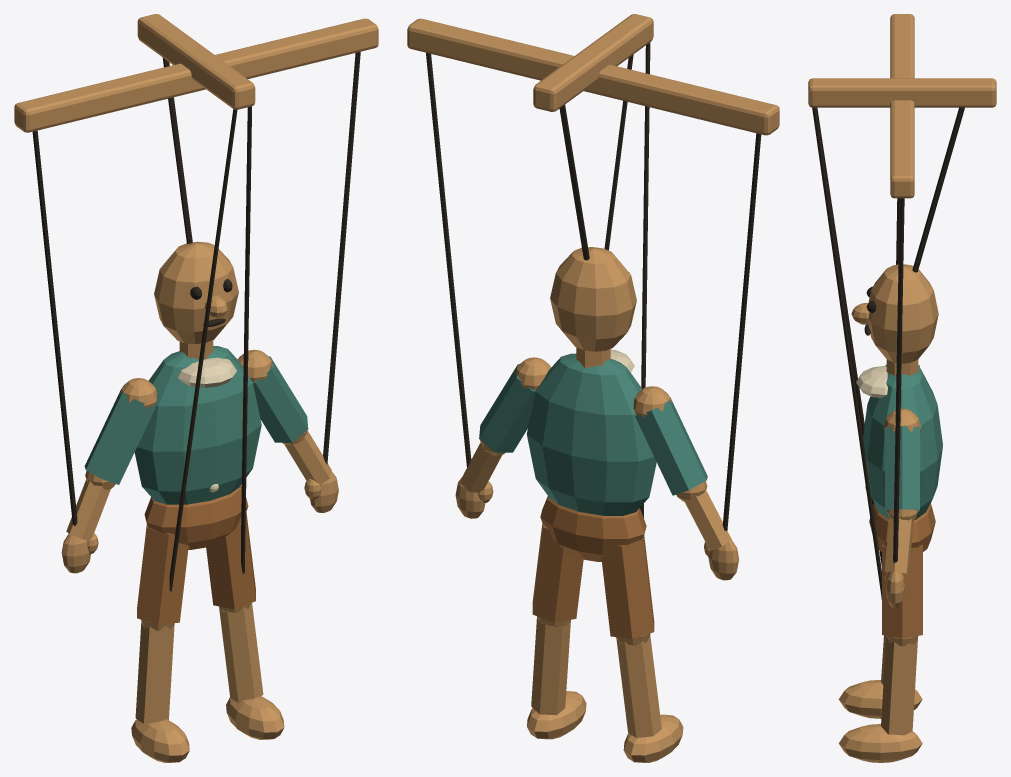
Rendered from NEW_RECOVERY_105_LOD1.fbx.
The picture shows the model from 3 angles, left to right: view 1: azimuth 30°, elevation 25°; view 2: azimuth 150°, elevation 25°; view 3: azimuth 270°, elevation 25°; orthographic projection. The views are drawn at different scales.
Parts seen in each view (by area): view 1: Marionette_static_LOD1; view 2: Marionette_static_LOD1; view 3: Marionette_static_LOD1.
Boxes of the visible parts, left/top/right/bottom form: Marionette_static_LOD1: left=14, top=14, right=378, bottom=762; Marionette_static_LOD1: left=407, top=14, right=779, bottom=762; Marionette_static_LOD1: left=808, top=14, right=996, bottom=762.
Bounding box in the file's own units: 135 × 65 × 250.
